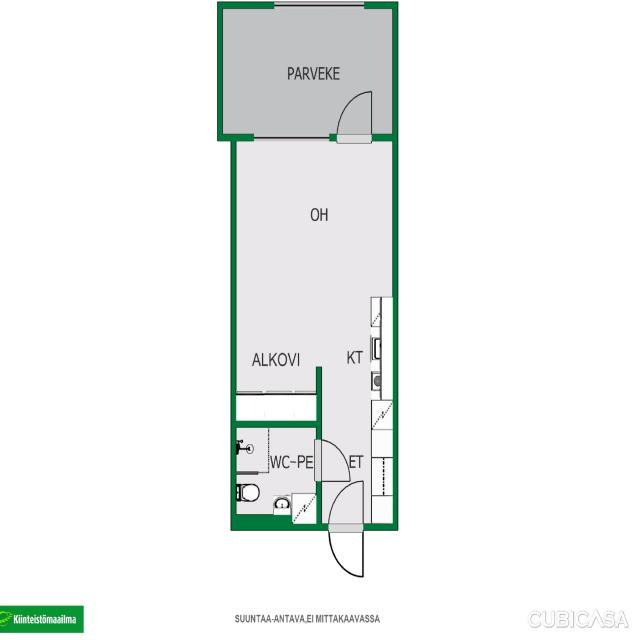door: (328, 477, 363, 530), (328, 524, 363, 576), (337, 88, 371, 141), (316, 439, 353, 481)
